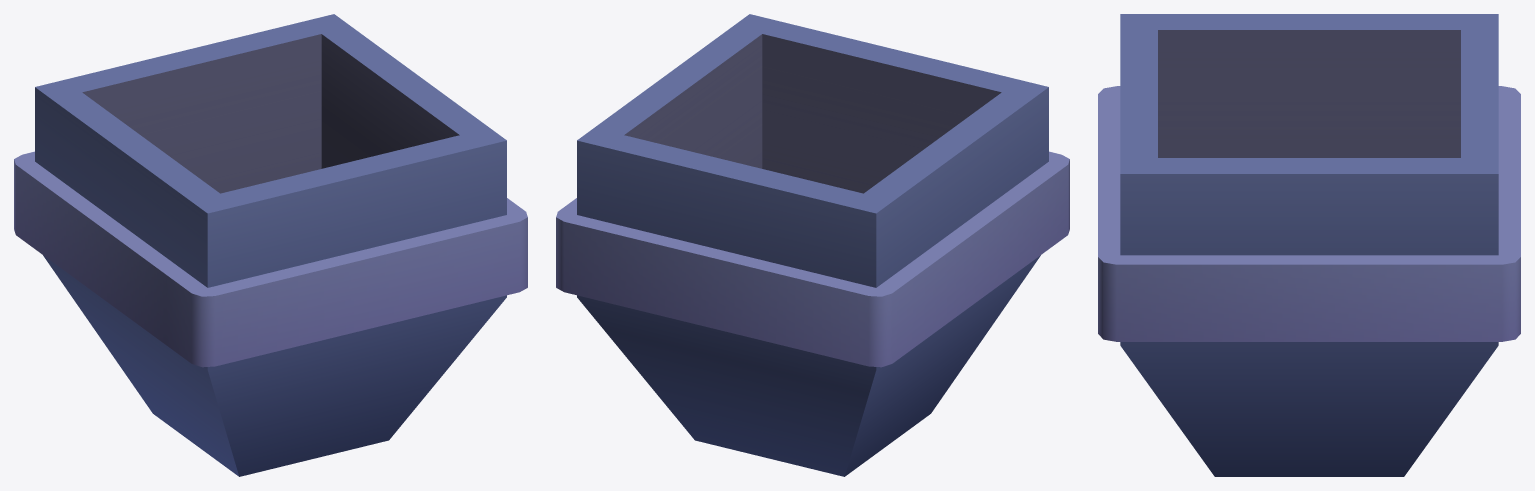
Rendered from kenney-factory-hopper-square.glb.
3 views of the same model, side by side, from view 1: azimuth 30°, elevation 25°; view 2: azimuth 150°, elevation 25°; view 3: azimuth 270°, elevation 25° (orthographic). The views are drawn at different scales.
Visible parts, largest first — view 1: hopper-square; view 2: hopper-square; view 3: hopper-square.
Part boxes in pixels (x1=…): hopper-square: x1=14, y1=14, x2=527, y2=476; hopper-square: x1=556, y1=14, x2=1069, y2=476; hopper-square: x1=1098, y1=14, x2=1520, y2=476.
Size of the model in its own units: 1.68 by 1.5 by 1.68.
1 material, 1 textured.
